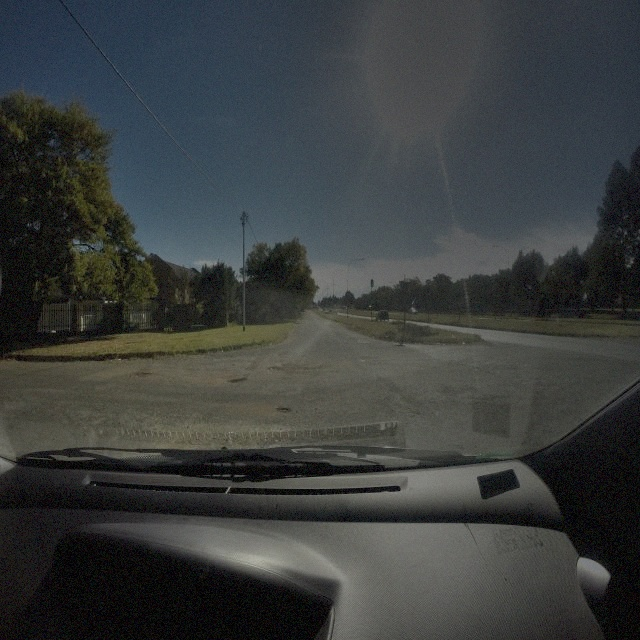pothole: (267, 364, 289, 374), (226, 374, 246, 384), (130, 370, 154, 378), (274, 405, 292, 414)
